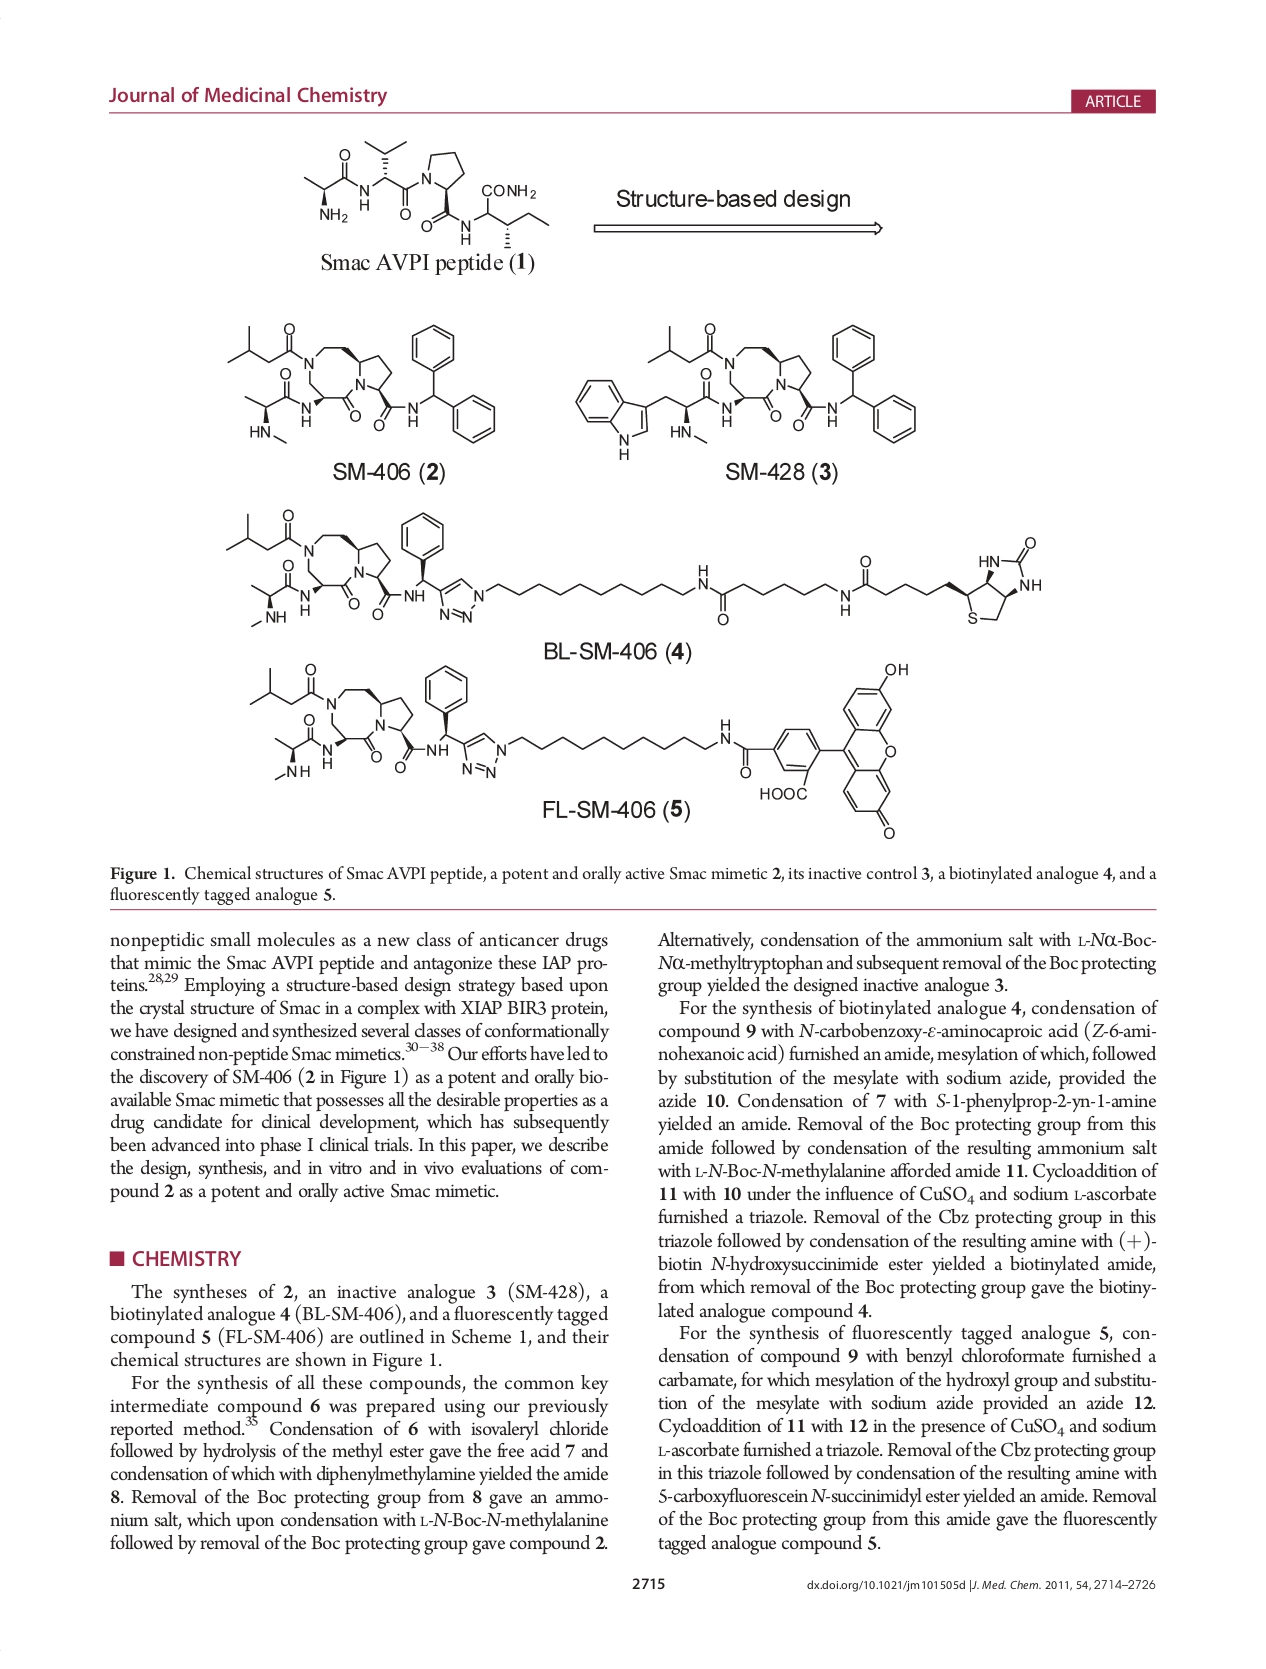exist_molecular: (247, 664, 911, 842), (221, 504, 1044, 630), (568, 317, 920, 461), (219, 317, 499, 453), (299, 134, 552, 251)
